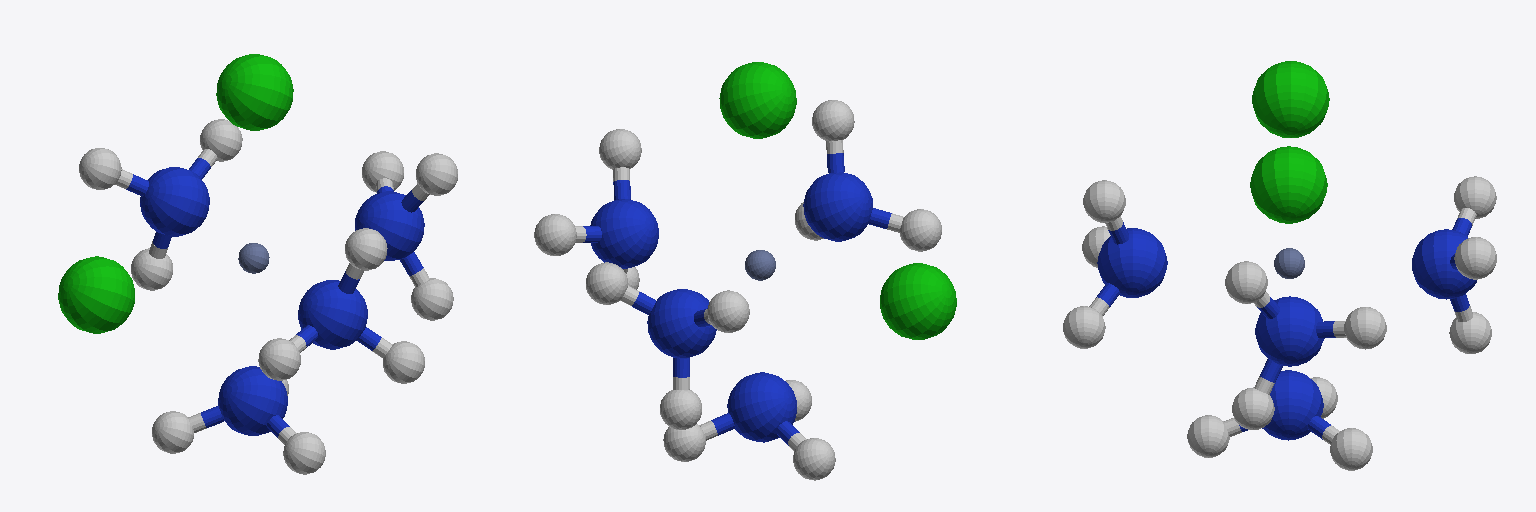
Rendered from cis-tetrammindiclorocromo.obj.
3 renders of one model, left to right at view 1: azimuth 30°, elevation 25°; view 2: azimuth 150°, elevation 25°; view 3: azimuth 270°, elevation 25°, orthographic.
Visible parts, largest first — view 1: ShapeSphere.013_ShapeSphere.014, ShapeSphere.014_ShapeSphere.015, ShapeSphere.001_ShapeSphere.002, ShapeSphere.007_ShapeSphere.008, ShapeSphere.010_ShapeSphere.011, ShapeSphere.004_ShapeSphere.005, ShapeSphere.008_ShapeSphere.009, ShapeSphere.012_ShapeSphere.013, ShapeSphere.011_ShapeSphere.012, ShapeSphere.005_ShapeSphere.006, ShapeSphere.002_ShapeSphere.003, ShapeSphere.009_ShapeSphere.010 (+6 smaller); view 2: ShapeSphere.013_ShapeSphere.014, ShapeSphere.014_ShapeSphere.015, ShapeSphere.010_ShapeSphere.011, ShapeSphere.007_ShapeSphere.008, ShapeSphere.004_ShapeSphere.005, ShapeSphere.001_ShapeSphere.002, ShapeSphere.009_ShapeSphere.010, ShapeSphere.002_ShapeSphere.003, ShapeSphere.015_ShapeSphere.016, ShapeSphere.003_ShapeSphere.004, ShapeSphere.012_ShapeSphere.013, ShapeSphere.011_ShapeSphere.012 (+5 smaller); view 3: ShapeSphere.014_ShapeSphere.015, ShapeSphere.013_ShapeSphere.014, ShapeSphere.010_ShapeSphere.011, ShapeSphere.004_ShapeSphere.005, ShapeSphere.001_ShapeSphere.002, ShapeSphere.007_ShapeSphere.008, ShapeSphere.017_ShapeSphere.018, ShapeSphere.018_ShapeSphere, ShapeSphere.011_ShapeSphere.012, ShapeSphere.005_ShapeSphere.006, ShapeSphere.015_ShapeSphere.016, ShapeSphere.003_ShapeSphere.004 (+7 smaller).
Boxes of the visible parts, <box> form: ShapeSphere.013_ShapeSphere.014: <box>58,256,134,333</box>; ShapeSphere.014_ShapeSphere.015: <box>216,54,293,130</box>; ShapeSphere.001_ShapeSphere.002: <box>140,167,209,236</box>; ShapeSphere.007_ShapeSphere.008: <box>218,366,287,435</box>; ShapeSphere.010_ShapeSphere.011: <box>298,280,367,349</box>; ShapeSphere.004_ShapeSphere.005: <box>355,191,424,260</box>; ShapeSphere.008_ShapeSphere.009: <box>283,432,325,474</box>; ShapeSphere.012_ShapeSphere.013: <box>258,338,300,380</box>; ShapeSphere.011_ShapeSphere.012: <box>345,228,387,270</box>; ShapeSphere.005_ShapeSphere.006: <box>416,153,457,195</box>; ShapeSphere.002_ShapeSphere.003: <box>79,148,121,189</box>; ShapeSphere.009_ShapeSphere.010: <box>152,411,193,453</box>; ShapeSphere.013_ShapeSphere.014: <box>880,263,956,339</box>; ShapeSphere.014_ShapeSphere.015: <box>719,62,796,138</box>; ShapeSphere.010_ShapeSphere.011: <box>803,172,872,241</box>; ShapeSphere.007_ShapeSphere.008: <box>727,372,796,442</box>; ShapeSphere.004_ShapeSphere.005: <box>590,199,658,268</box>; ShapeSphere.001_ShapeSphere.002: <box>647,289,716,357</box>; ShapeSphere.009_ShapeSphere.010: <box>793,438,835,480</box>; ShapeSphere.002_ShapeSphere.003: <box>707,290,749,332</box>; ShapeSphere.015_ShapeSphere.016: <box>534,214,576,255</box>; ShapeSphere.003_ShapeSphere.004: <box>586,262,627,304</box>; ShapeSphere.012_ShapeSphere.013: <box>900,209,941,251</box>; ShapeSphere.011_ShapeSphere.012: <box>812,100,854,140</box>; ShapeSphere.014_ShapeSphere.015: <box>1252,61,1329,137</box>; ShapeSphere.013_ShapeSphere.014: <box>1250,146,1327,223</box>; ShapeSphere.010_ShapeSphere.011: <box>1097,228,1167,297</box>; ShapeSphere.004_ShapeSphere.005: <box>1255,296,1323,366</box>; ShapeSphere.001_ShapeSphere.002: <box>1412,229,1476,299</box>; ShapeSphere.007_ShapeSphere.008: <box>1262,370,1323,440</box>; ShapeSphere.017_ShapeSphere.018: <box>1330,428,1372,470</box>; ShapeSphere.018_ShapeSphere: <box>1063,306,1105,348</box>; ShapeSphere.011_ShapeSphere.012: <box>1083,180,1125,222</box>; ShapeSphere.005_ShapeSphere.006: <box>1225,261,1267,303</box>; ShapeSphere.015_ShapeSphere.016: <box>1344,307,1386,349</box>; ShapeSphere.003_ShapeSphere.004: <box>1454,237,1496,279</box>.
Size of the model in its own units: 5.07 by 4.98 by 5.06.